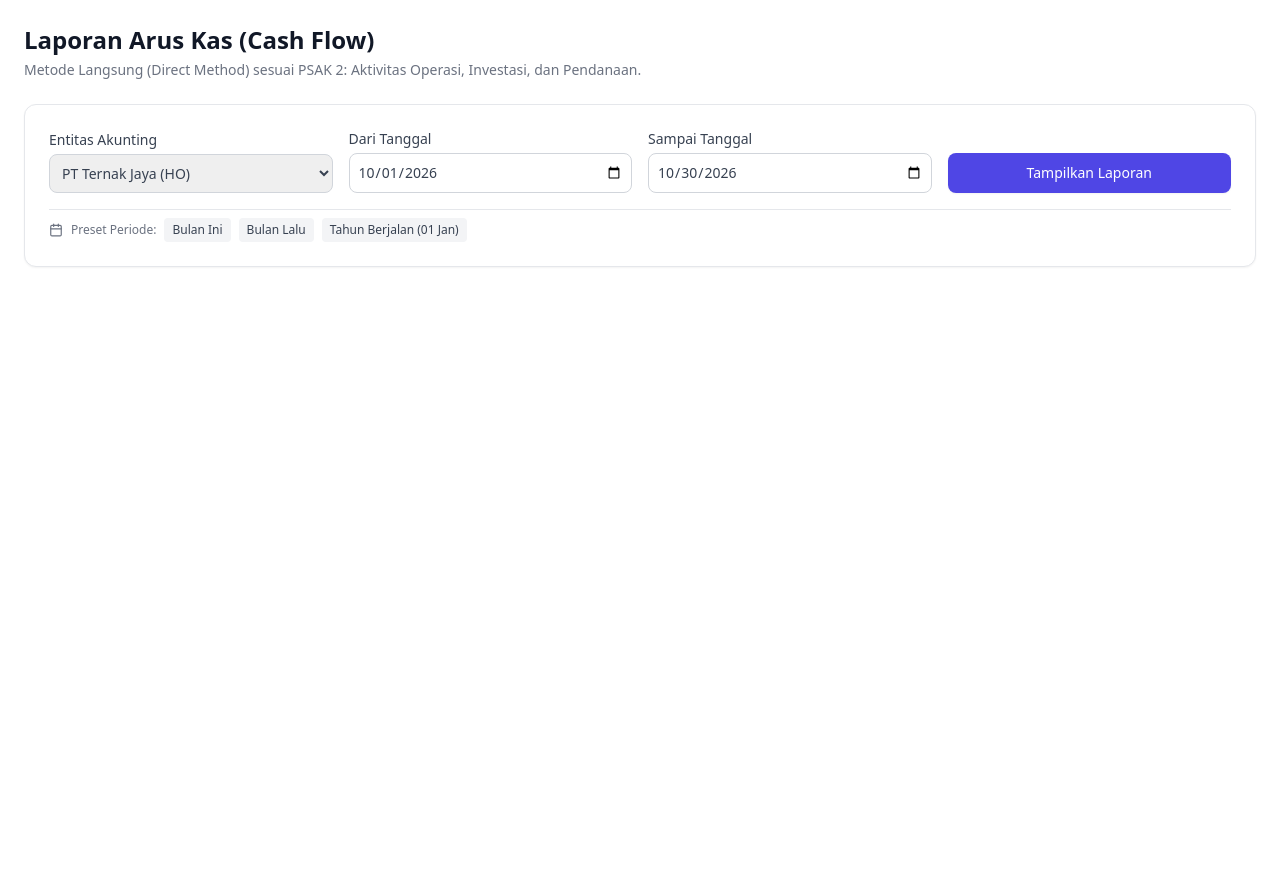
Test case: CashFlowPage › displays warning banner when ending balance is negative
Click the button "Tampilkan Laporan". click: [1089, 173]
box: [948,153,1231,193]
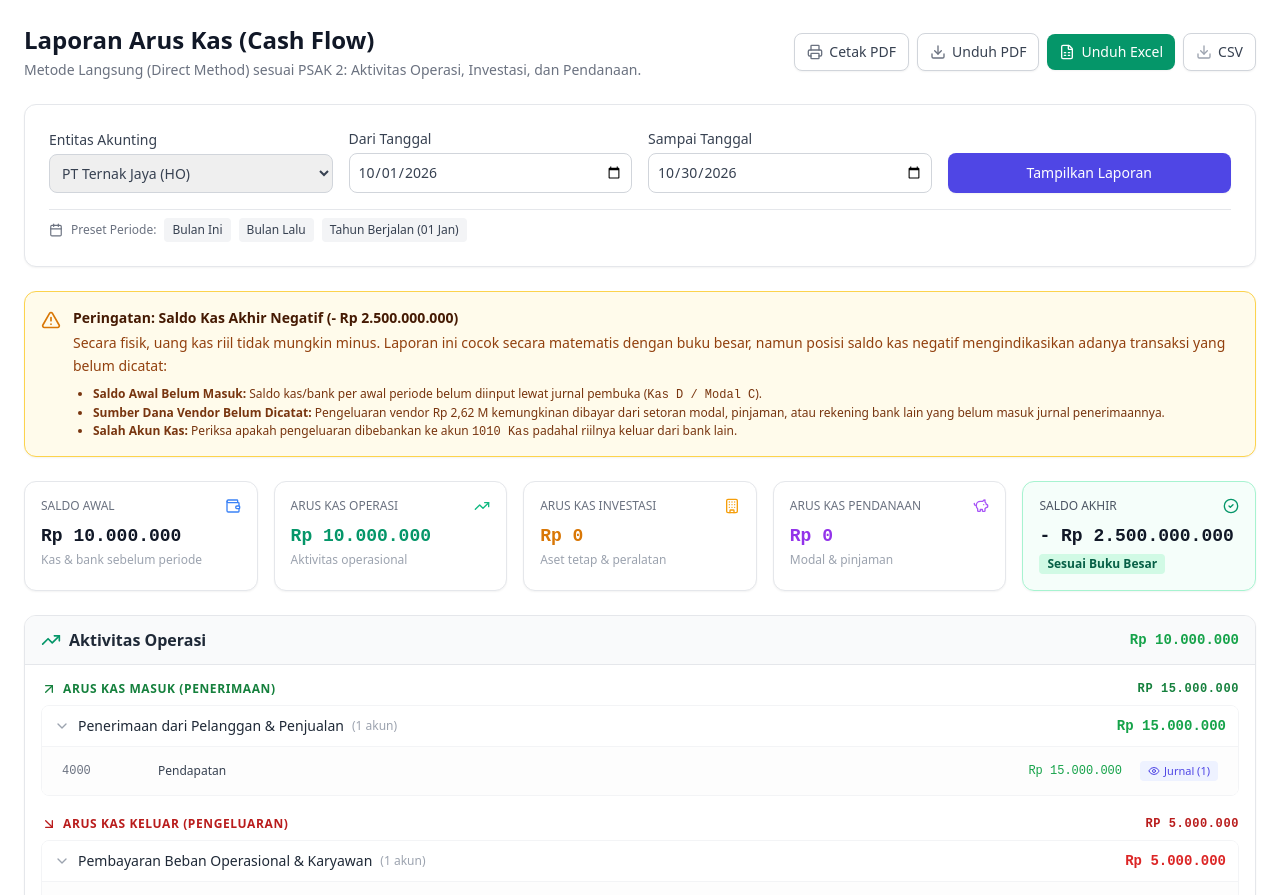
Now the text "Peringatan: Saldo Kas Akhir Negatif (- Rp 2.500.000.000)" is shown, box [73,308,458,327]
Now the text "Saldo Awal Belum Masuk:" is shown, box [93,384,246,402]
Now the text "Sumber Dana Vendor Belum Dicatat:" is shown, box [93,404,312,420]
